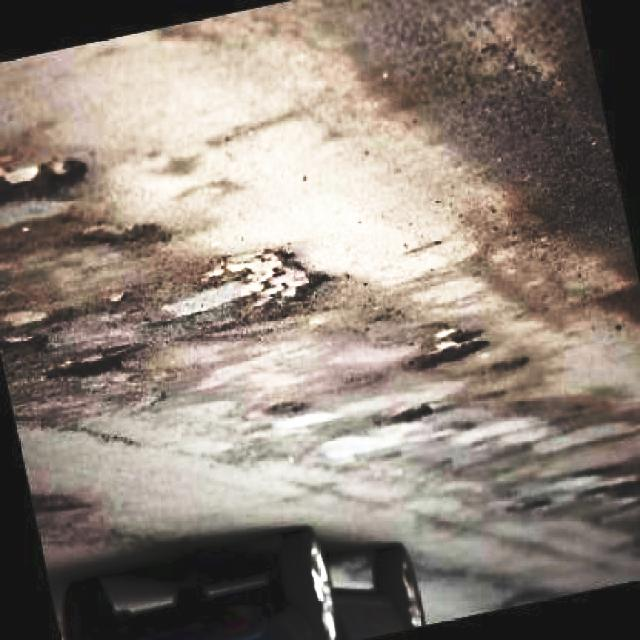pothole: (217, 238, 326, 311), (0, 150, 91, 202), (46, 338, 134, 388), (412, 323, 496, 374), (0, 301, 78, 355), (26, 488, 83, 517)
